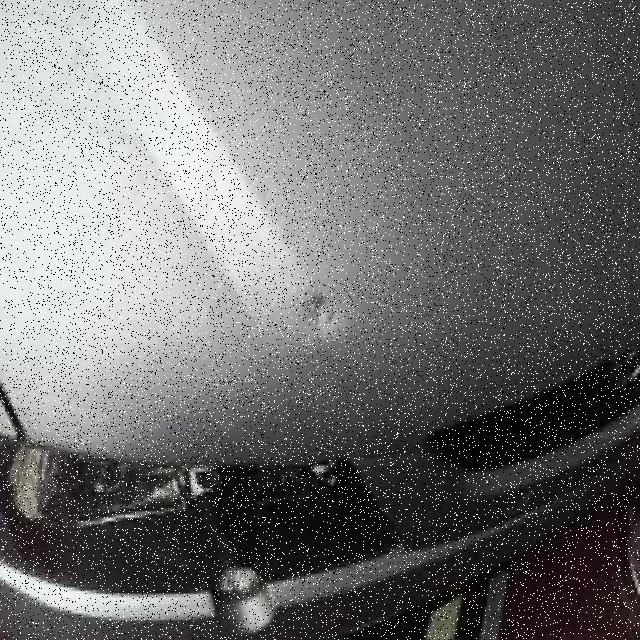headlight: (0, 0, 435, 551)
